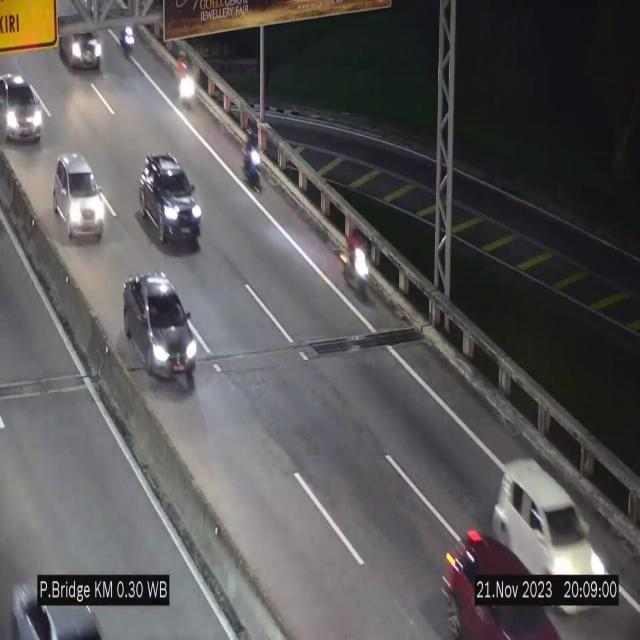Car: (489, 451, 611, 621), (435, 522, 557, 640), (9, 556, 113, 640), (123, 272, 197, 390), (139, 154, 201, 248), (54, 154, 104, 240), (57, 4, 115, 78), (0, 69, 44, 147)
Motorcycle: (341, 224, 369, 312), (174, 44, 196, 114), (242, 126, 262, 190), (116, 7, 138, 61)
